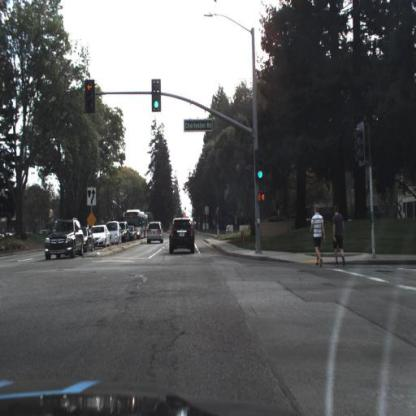car: (44, 216, 86, 261), (168, 216, 197, 256), (146, 221, 166, 248), (80, 226, 97, 251), (95, 225, 111, 250), (110, 218, 124, 246)
pedestrian: (311, 207, 326, 268), (331, 205, 345, 269)
trafficLight-Green: (257, 154, 263, 181), (154, 85, 160, 111)
trafficLight-GreenLeft: (85, 78, 97, 110)
trafficLight-RedLeft: (86, 80, 94, 111)
truck: (124, 208, 149, 241)
